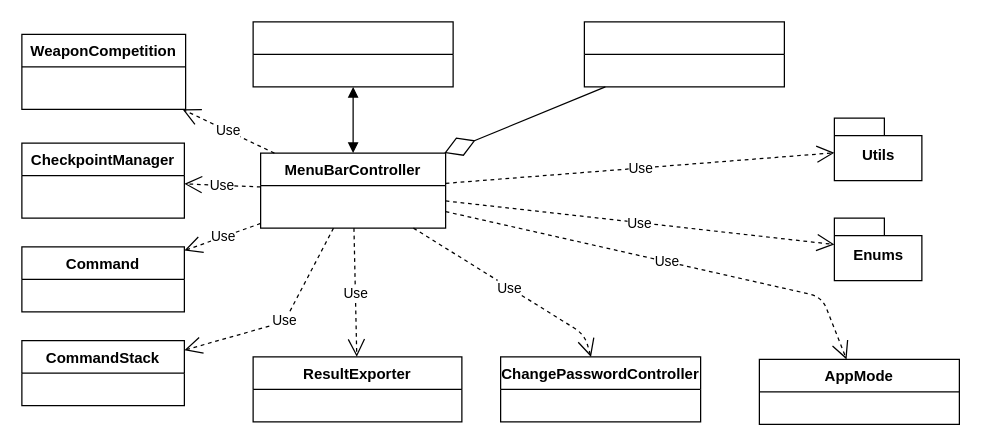
Image size: 981x446. Some labels were removed from this diagram. The shapes that lost their labels are listed below. From the top down, each one's centre as x and y in pixels, then its label:
At (352,54): "menuBar".
At (683,54): "EliminationController".
